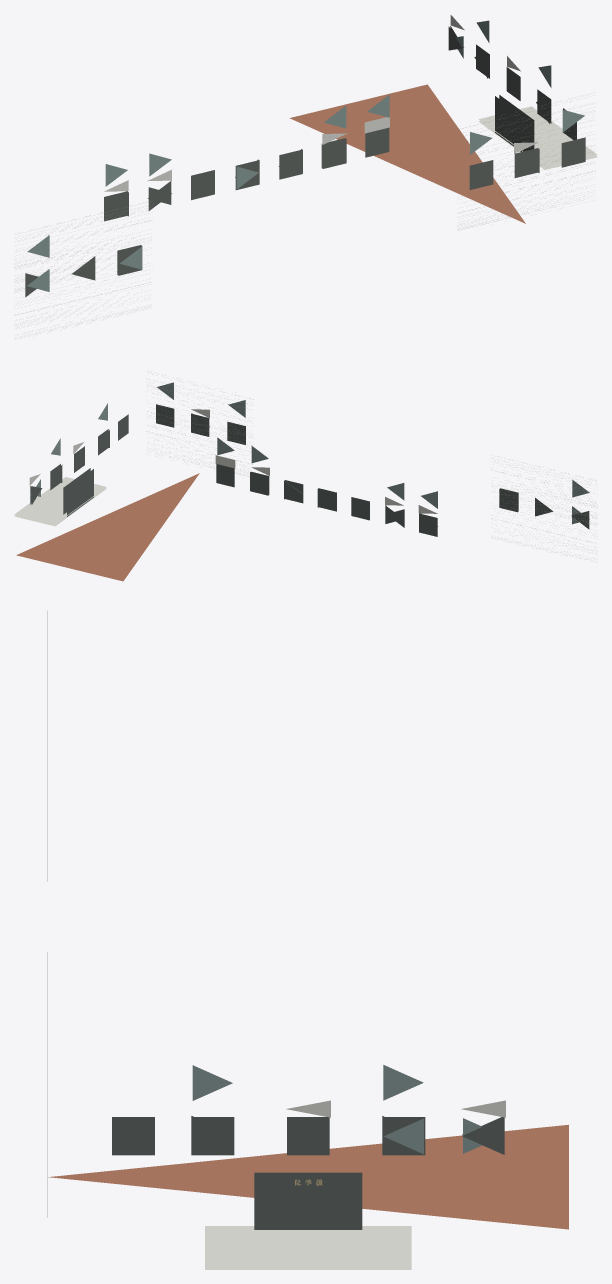
The model's file is buildings-55-far.glb.
3 renders of one model, top to bottom at view 1: azimuth 30°, elevation 25°; view 2: azimuth 150°, elevation 25°; view 3: azimuth 270°, elevation 25°, orthographic. The views are drawn at different scales.
Parts seen in each view (by area): view 1: 化学楼 · Chemistry dark frames.001, 化学楼 · Chemistry red brick.001, 化学楼 · Chemistry glazing.001, 化学楼 · Chemistry pale panels.001, 化学楼 · Chemistry joints.001; view 2: 化学楼 · Chemistry red brick.001, 化学楼 · Chemistry dark frames.001, 化学楼 · Chemistry pale panels.001, 化学楼 · Chemistry glazing.001, 化学楼 · Chemistry joints.001; view 3: 化学楼 · Chemistry red brick.001, 化学楼 · Chemistry dark frames.001, 化学楼 · Chemistry pale panels.001, 化学楼 · Chemistry glazing.001.
Part boxes in pixels (x1,y1,x2,y2): 化学楼 · Chemistry dark frames.001: (25, 26, 585, 297); 化学楼 · Chemistry red brick.001: (289, 84, 525, 223); 化学楼 · Chemistry glazing.001: (27, 20, 584, 291); 化学楼 · Chemistry pale panels.001: (104, 15, 597, 191); 化学楼 · Chemistry joints.001: (14, 101, 595, 334); 化学楼 · Chemistry red brick.001: (16, 473, 199, 581); 化学楼 · Chemistry dark frames.001: (30, 404, 589, 536); 化学楼 · Chemistry pale panels.001: (14, 409, 437, 526); 化学楼 · Chemistry glazing.001: (31, 382, 589, 524); 化学楼 · Chemistry joints.001: (146, 373, 597, 559); 化学楼 · Chemistry red brick.001: (48, 1124, 568, 1229); 化学楼 · Chemistry dark frames.001: (112, 1116, 504, 1229); 化学楼 · Chemistry pale panels.001: (205, 1100, 505, 1269); 化学楼 · Chemistry glazing.001: (192, 1065, 482, 1154).
Bounding box in the file's own units: 71.6 × 12.4 × 33.09.
